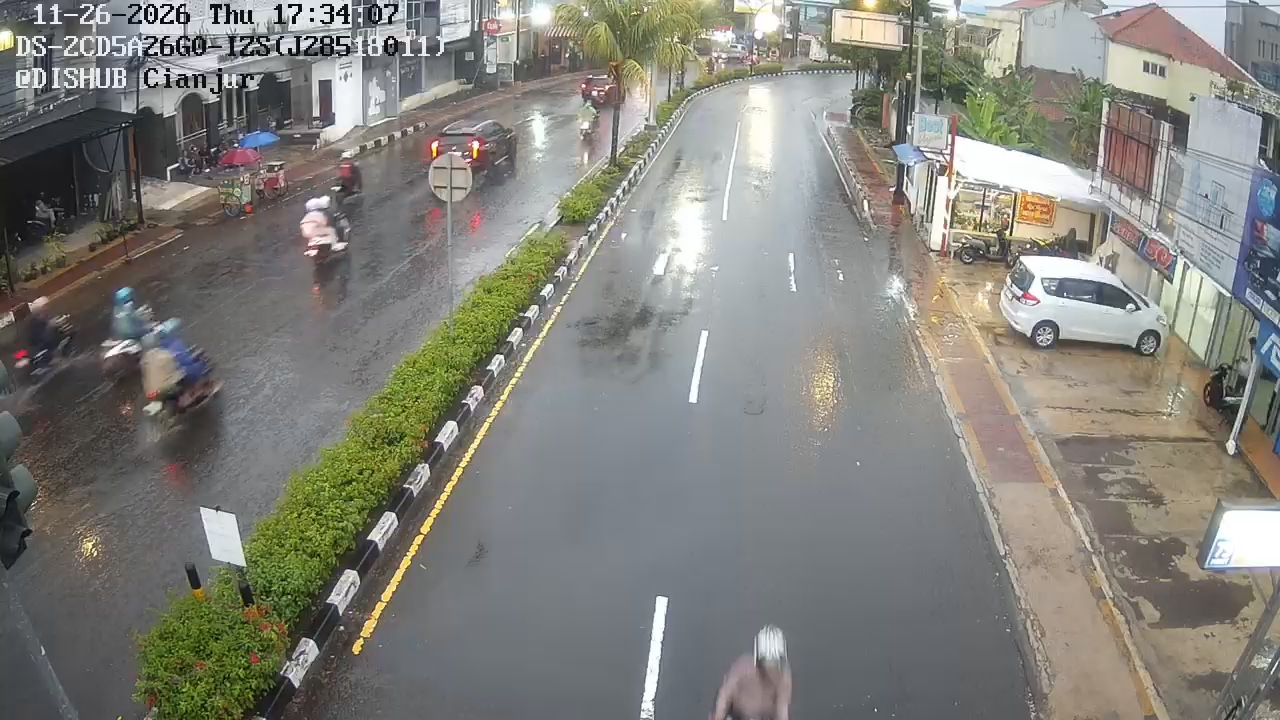Gerobak: (216, 163, 260, 217), (257, 154, 291, 199)
